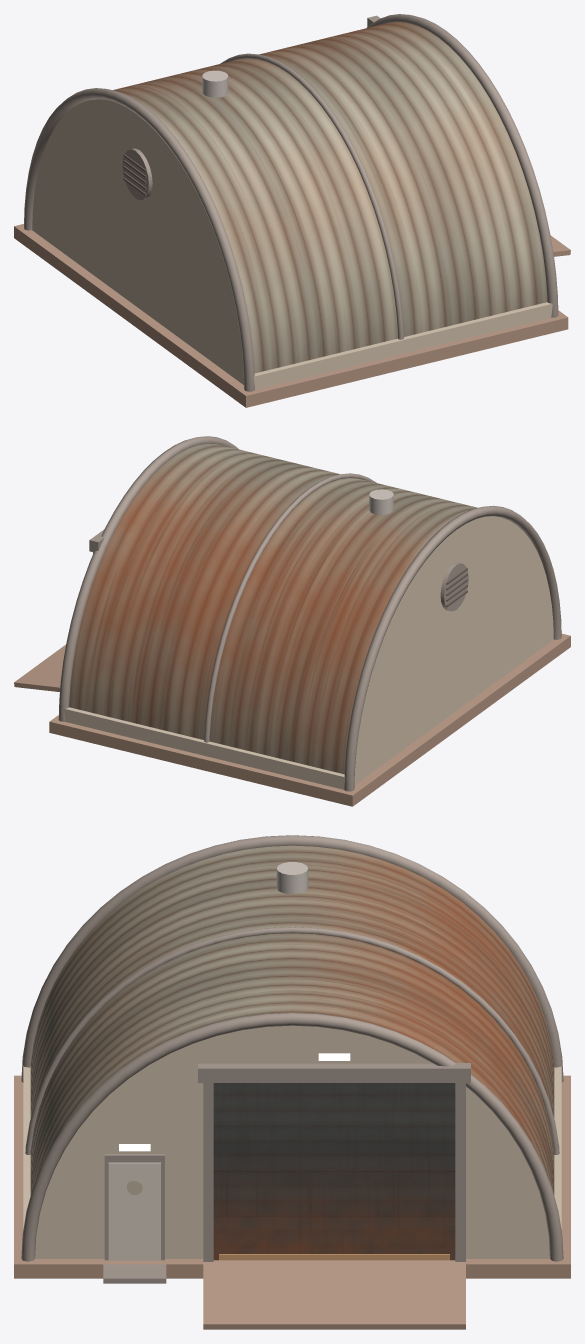
The model's file is I04_arched_hall_2seg.glb.
The picture shows the model from 3 angles, top to bottom: view 1: azimuth 30°, elevation 25°; view 2: azimuth 150°, elevation 25°; view 3: azimuth 270°, elevation 25°; orthographic projection. The views are drawn at different scales.
Visible parts, largest first — view 1: vault, gable_wall, segment_rib (×3), foundation, base_beam, gable_vent, roof_vent; view 2: vault, gable_wall, segment_rib (×3), foundation, base_beam, ramp, gable_vent, roof_vent; view 3: vault, large_door, gable_wall, segment_rib (×3), ramp, foundation, door_header, small_door, door_jamb (×2), base_beam (×2), door_bottom_bar, small_door_frame (+2 smaller).
Part boxes in pixels (box(x1,y1,x2,y2)): vault: box(113, 22, 547, 373); gable_wall: box(32, 99, 243, 384); segment_rib (×3): box(24, 14, 558, 391); foundation: box(14, 224, 568, 407); base_beam: box(253, 302, 552, 389); gable_vent: box(122, 148, 152, 200); roof_vent: box(202, 70, 228, 97); vault: box(69, 443, 477, 774); gable_wall: box(354, 516, 553, 784); segment_rib (×3): box(58, 436, 561, 791); foundation: box(49, 633, 570, 806); base_beam: box(64, 707, 345, 789); ramp: box(14, 644, 65, 691); gable_vent: box(440, 562, 468, 611); roof_vent: box(369, 489, 393, 514); vault: box(30, 845, 554, 1194); large_door: box(213, 1083, 455, 1260); gable_wall: box(35, 1025, 549, 1258); segment_rib (×3): box(21, 835, 563, 1261); ramp: box(203, 1260, 465, 1329); foundation: box(14, 1075, 570, 1278); door_header: box(198, 1063, 470, 1082); small_door: box(108, 1162, 160, 1260); door_jamb (×2): box(203, 1083, 465, 1261); base_beam (×2): box(23, 1066, 561, 1229); door_bottom_bar: box(219, 1254, 449, 1260); small_door_frame: box(104, 1154, 164, 1260).
Size of the model in its own units: 10.65 by 5.78 by 10.6.
Materials: 12 (2 with a texture image).
